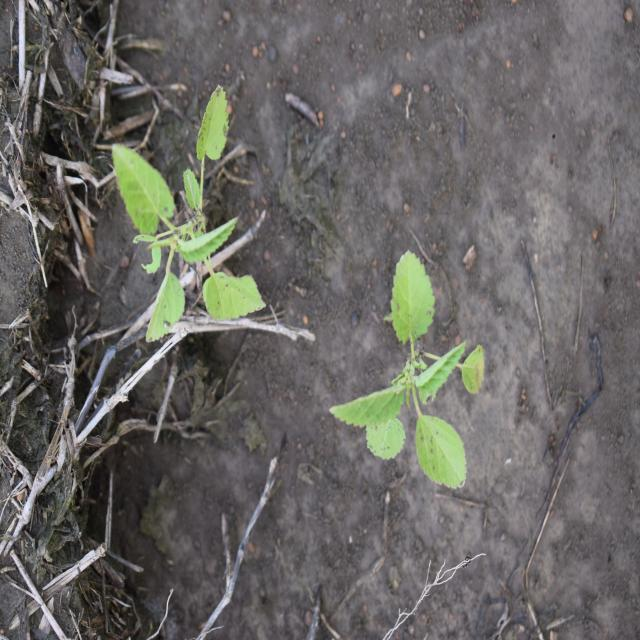PricklySida: (110, 83, 268, 345), (328, 248, 486, 492)
